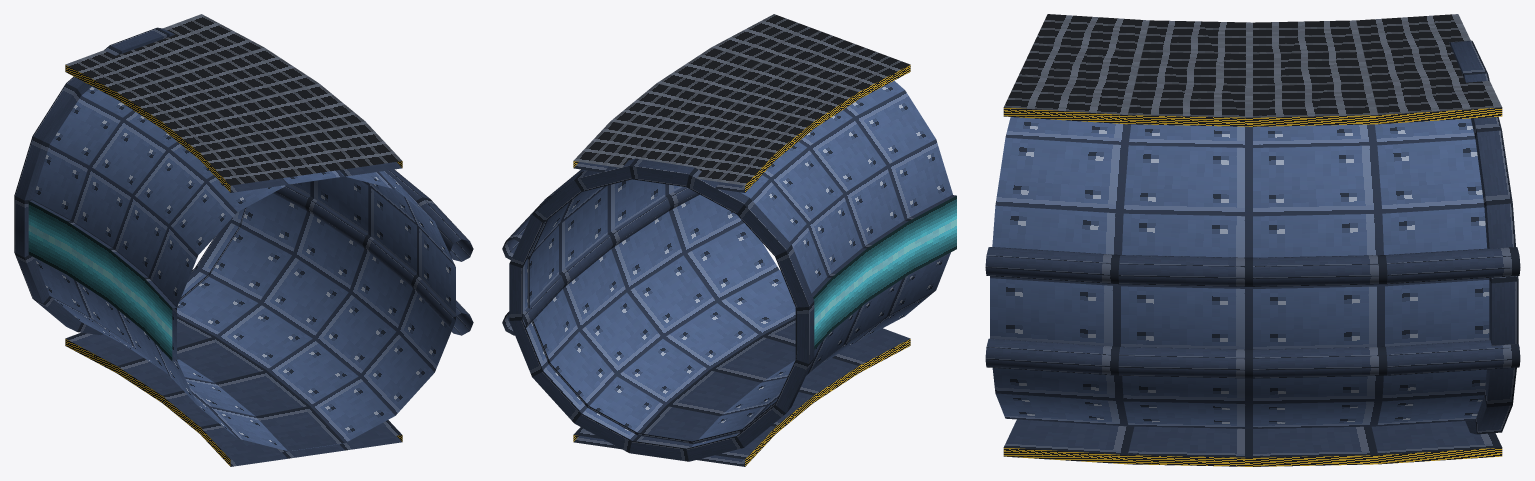
Rendered from ring_segment.obj.
3 views of the same model, side by side, from view 1: azimuth 30°, elevation 25°; view 2: azimuth 150°, elevation 25°; view 3: azimuth 270°, elevation 25° (orthographic). The views are drawn at different scales.
Bounding box in the file's own units: 5.42 × 5.06 × 6.89.
